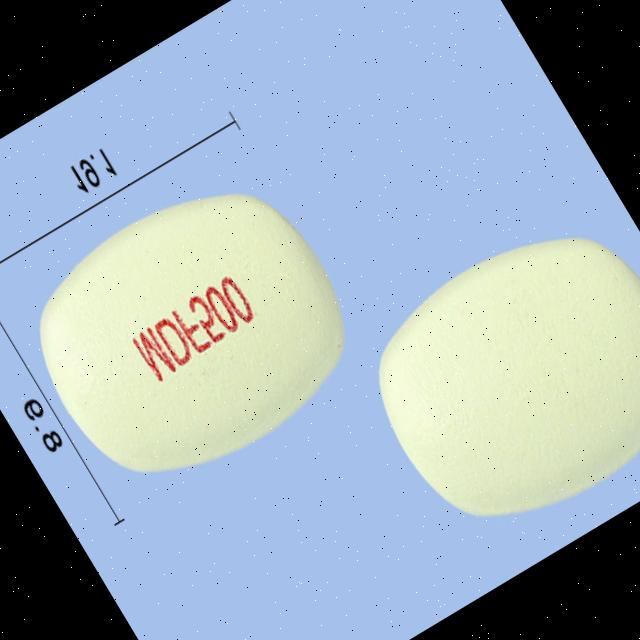Clarid: (0, 143, 389, 527), (338, 191, 640, 568)
